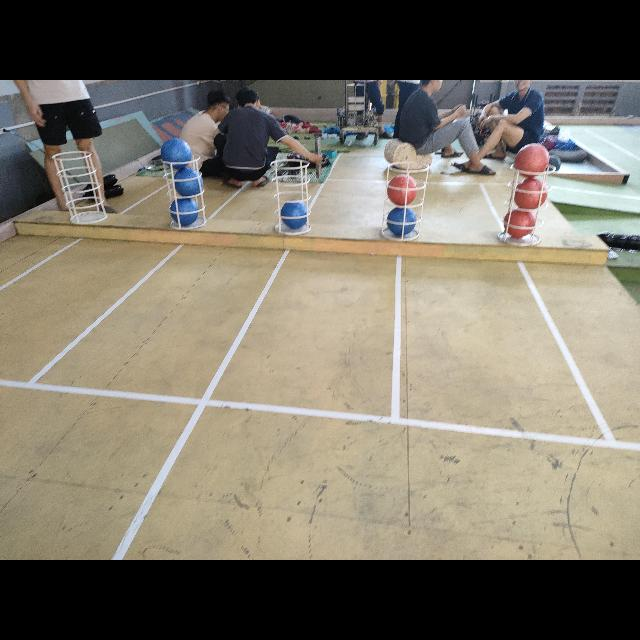B: (388, 206, 417, 236), (162, 139, 192, 167), (174, 169, 202, 197), (280, 200, 308, 228), (170, 198, 198, 225)
R: (512, 177, 548, 210), (514, 144, 550, 176), (387, 174, 417, 206), (504, 210, 534, 238)
